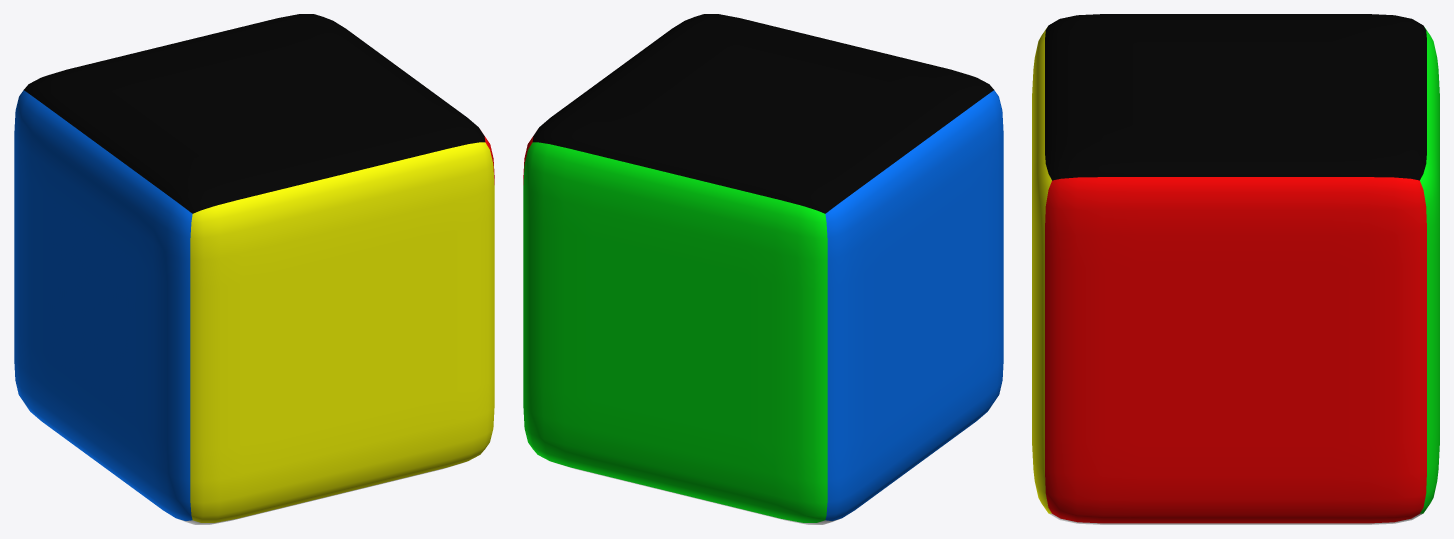
The picture shows the model from 3 angles, left to right: view 1: azimuth 30°, elevation 25°; view 2: azimuth 150°, elevation 25°; view 3: azimuth 270°, elevation 25°; orthographic projection. The views are drawn at different scales.
Visible parts, largest first — view 1: Box001; view 2: Box001; view 3: Box001.
Part boxes in pixels (box(x1,y1,x2,y2)): Box001: box(14, 14, 494, 524); Box001: box(523, 14, 1003, 524); Box001: box(1032, 14, 1439, 524).
Bounding box in the file's own units: 10 × 10 × 10.
